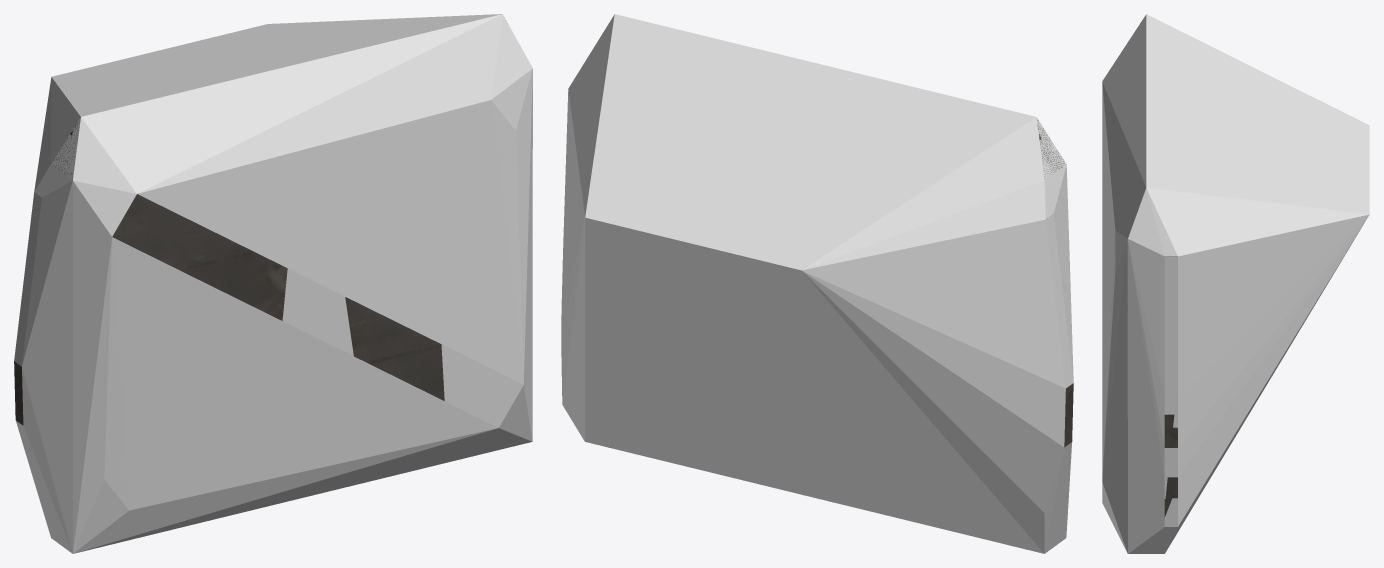
File: barricade.low.webp.glb
3 renders of one model, left to right at view 1: azimuth 30°, elevation 25°; view 2: azimuth 150°, elevation 25°; view 3: azimuth 270°, elevation 25°, orthographic. The views are drawn at different scales.
Parts seen in each view (by area): view 1: COL, FRAC_4_l1, FRAC_6_l1; view 2: COL; view 3: COL, FRAC_3_l1.
Boxes of the visible parts, box(x1,y1,x2,y2) form: COL: box(14, 14, 532, 553); FRAC_4_l1: box(75, 124, 287, 320); FRAC_6_l1: box(345, 297, 444, 400); COL: box(561, 14, 1073, 553); COL: box(1102, 14, 1369, 553); FRAC_3_l1: box(1164, 427, 1177, 517).
Size of the model in its own units: 1.87 by 1.5 by 1.01.
1 material, 1 textured.
